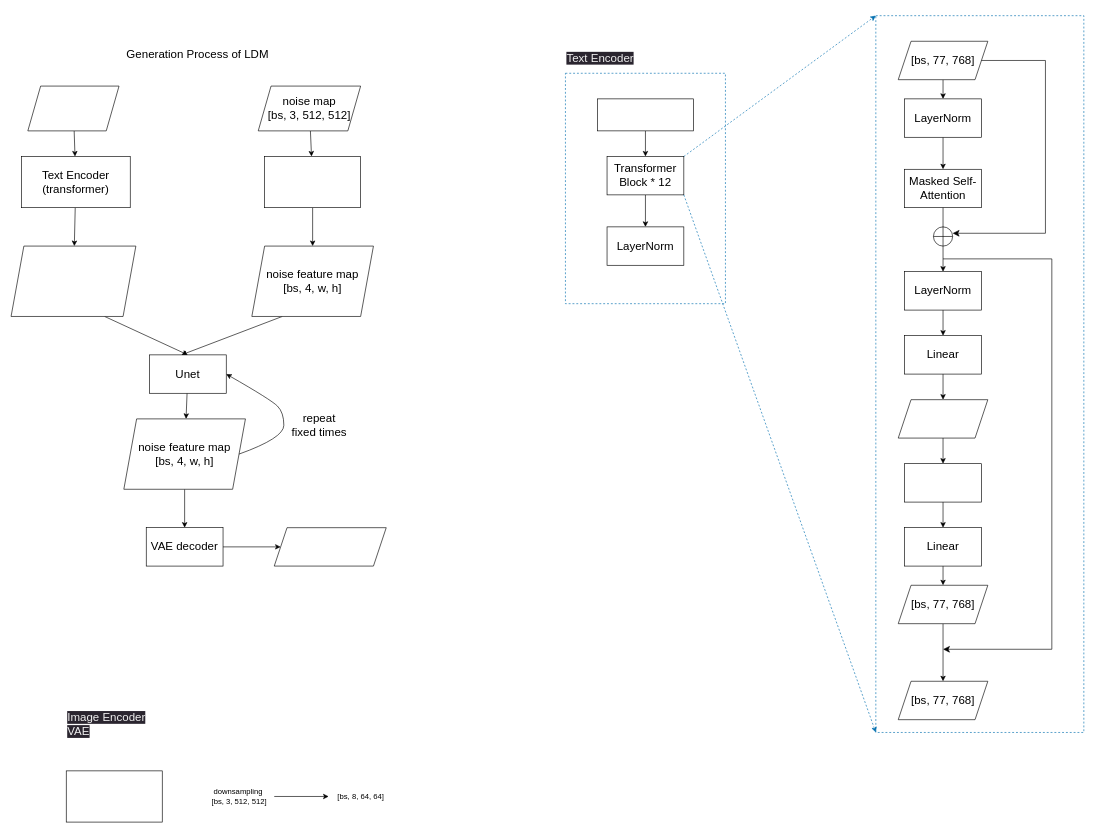
This 1096x833 diagram has some shape labels left out. The shapes that lost their labels are listed below. From the top down, each one's centre as x and y in pixels, then its label:
point 73,108: text prompt [bs, text_len]
point 645,114: Embedding Layer
point 312,182: Image Encoder (VAE encoder)
point 73,280: text embedding [bs, 77, 784]
point 943,418: [bs, 77, 3072]
point 942,482: GeLU
point 330,546: image [bs, 3, 512, 512]
point 114,796: VAE Encoder
